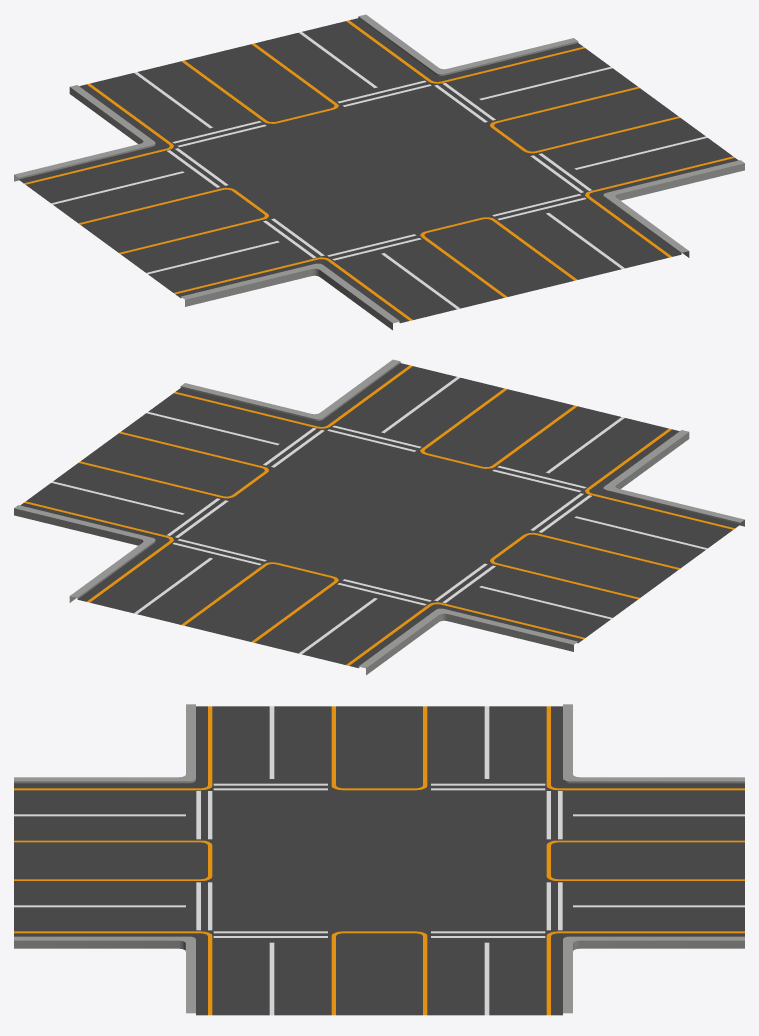
The model's file is Road_A_2L_1_6.fbx.
3 renders of one model, top to bottom at view 1: azimuth 30°, elevation 25°; view 2: azimuth 150°, elevation 25°; view 3: azimuth 270°, elevation 25°, orthographic. The views are drawn at different scales.
Visible parts, largest first — view 1: Road_A_2L_1_6; view 2: Road_A_2L_1_6; view 3: Road_A_2L_1_6.
Part boxes in pixels (box(x1,y1,x2,y2)): Road_A_2L_1_6: box(14, 14, 744, 330); Road_A_2L_1_6: box(14, 359, 744, 675); Road_A_2L_1_6: box(14, 704, 744, 1015).
Size of the model in its own units: 3400 by 41.49 by 3400.
